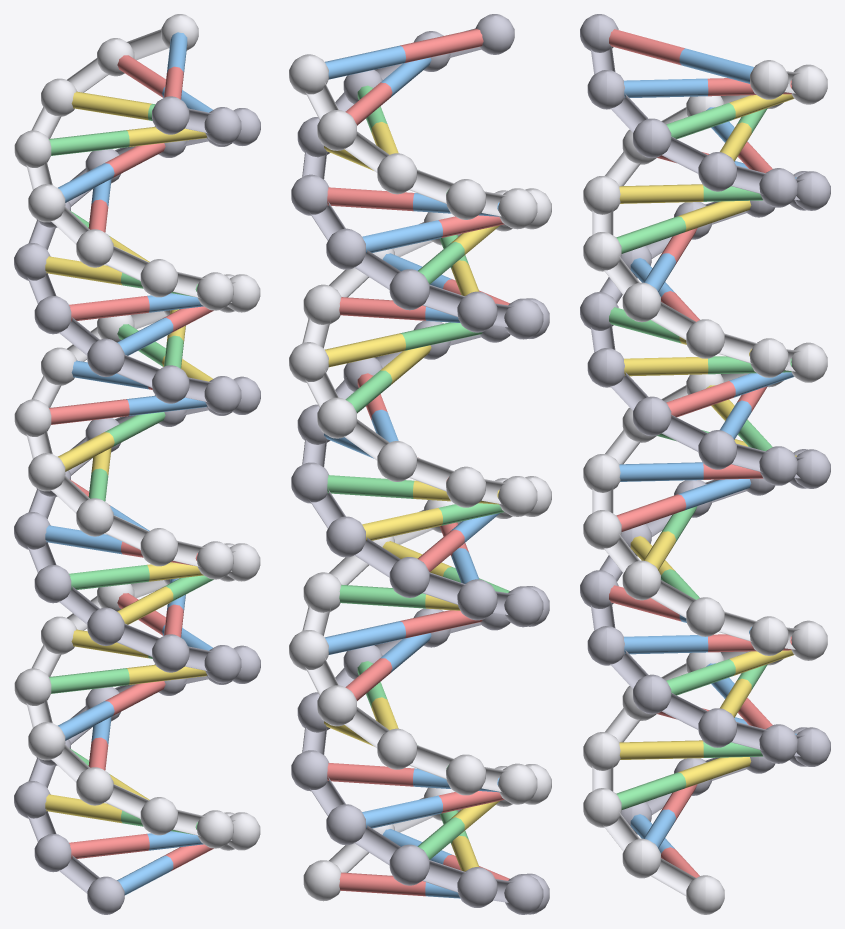
Rendered from dna.glb.
The picture shows the model from 3 angles, left to right: view 1: azimuth 30°, elevation 25°; view 2: azimuth 150°, elevation 25°; view 3: azimuth 270°, elevation 25°; orthographic projection. The views are drawn at different scales.
Bounding box in the file's own units: 0.1412 × 0.515 × 0.1389.
